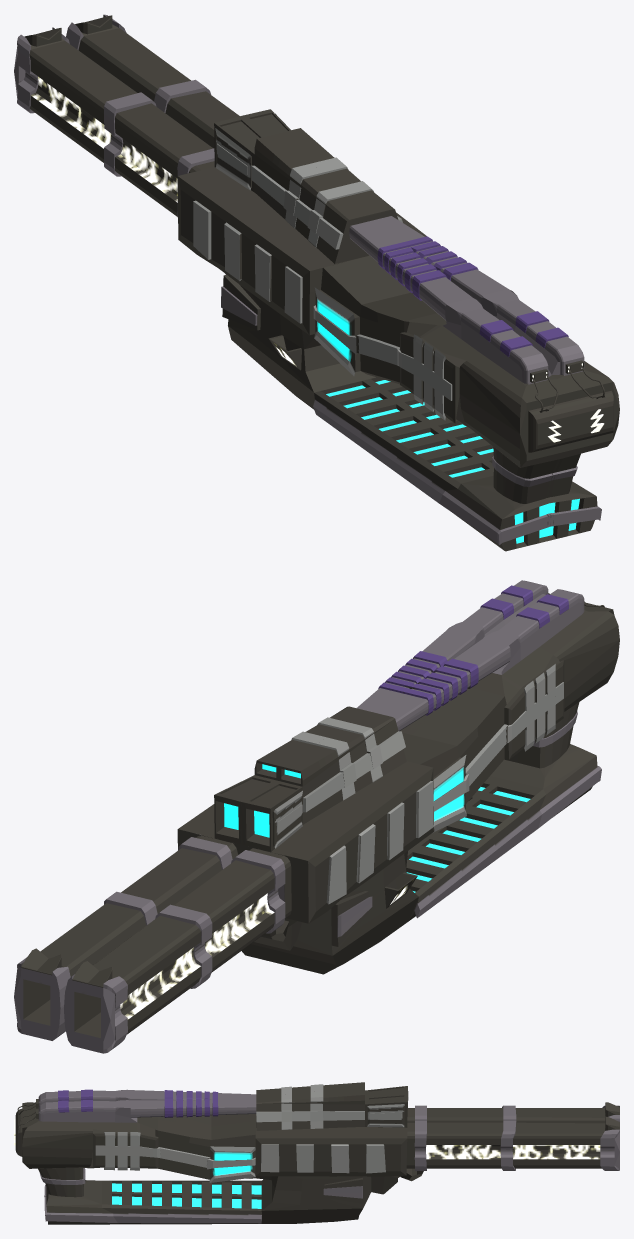
Rendered from Double_Durf.fbx.
The picture shows the model from 3 angles, top to bottom: view 1: azimuth 30°, elevation 25°; view 2: azimuth 150°, elevation 25°; view 3: azimuth 270°, elevation 25°; orthographic projection. The views are drawn at different scales.
Visible parts, largest first — view 1: Cube; view 2: Cube; view 3: Cube.
Part boxes in pixels (bbox=[...]): Cube: bbox=[14, 14, 619, 551]; Cube: bbox=[14, 580, 619, 1053]; Cube: bbox=[14, 1082, 619, 1224].
Size of the model in its own units: 0.2411 by 0.3503 by 1.55.
1 material, 1 textured.
